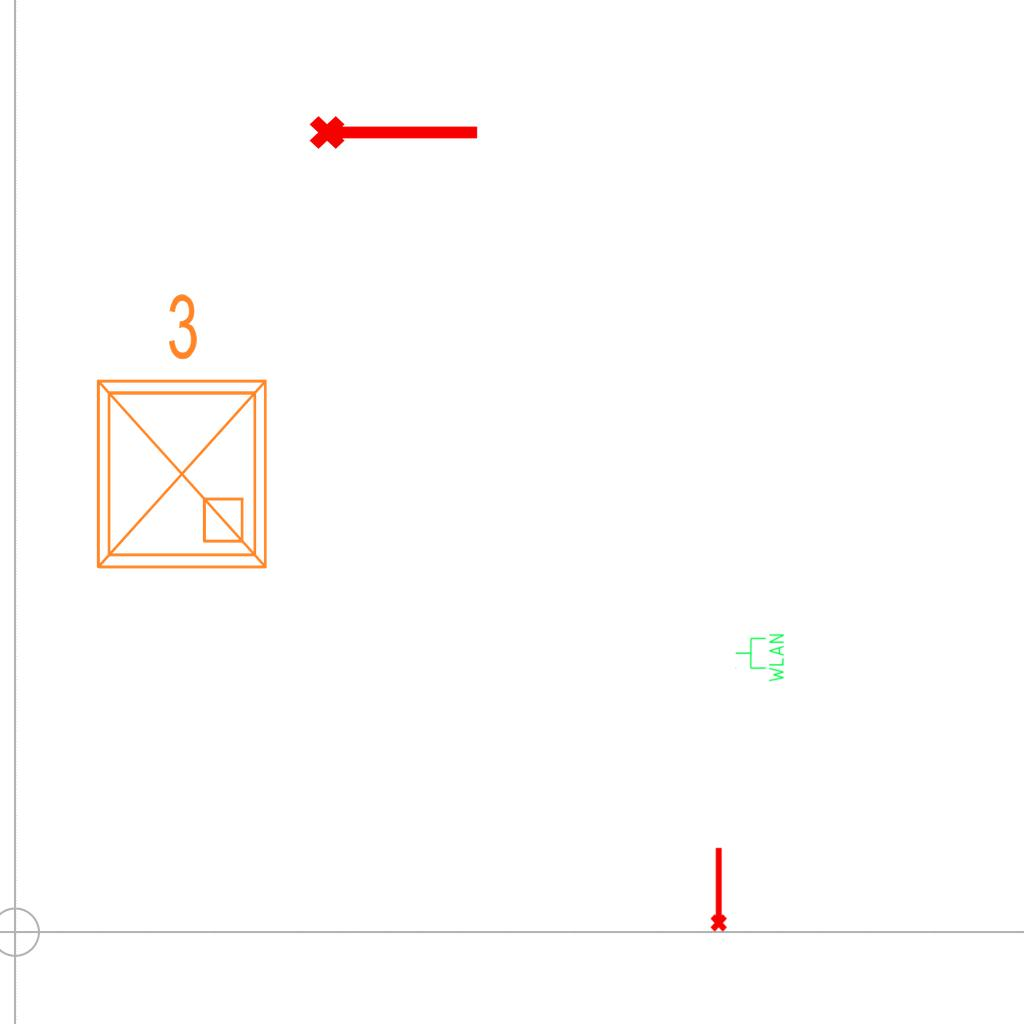ASR_Ansaugoeffnung: (307, 107, 483, 153), (706, 845, 729, 933)
Einbaudownlights_LED_Konferenzraeume: (74, 283, 282, 583)
WLAN: (734, 632, 786, 684)
